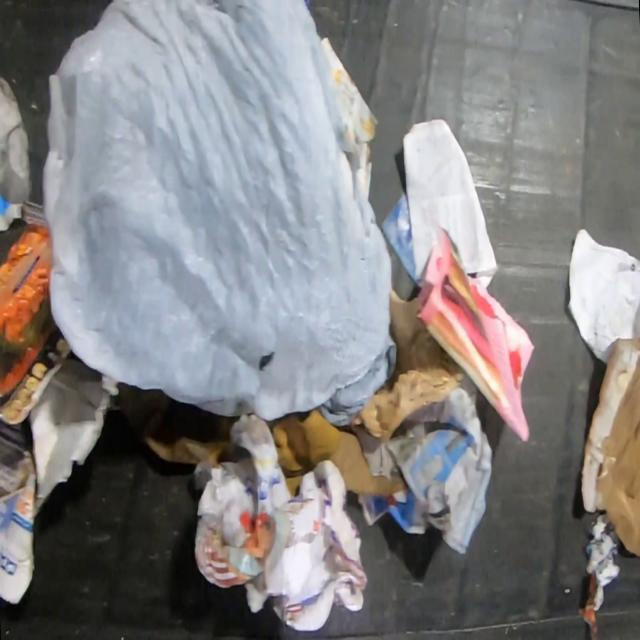cardboard: (264, 404, 407, 496), (119, 382, 229, 464)
soft_plastic: (41, 0, 396, 426), (0, 198, 68, 425)
